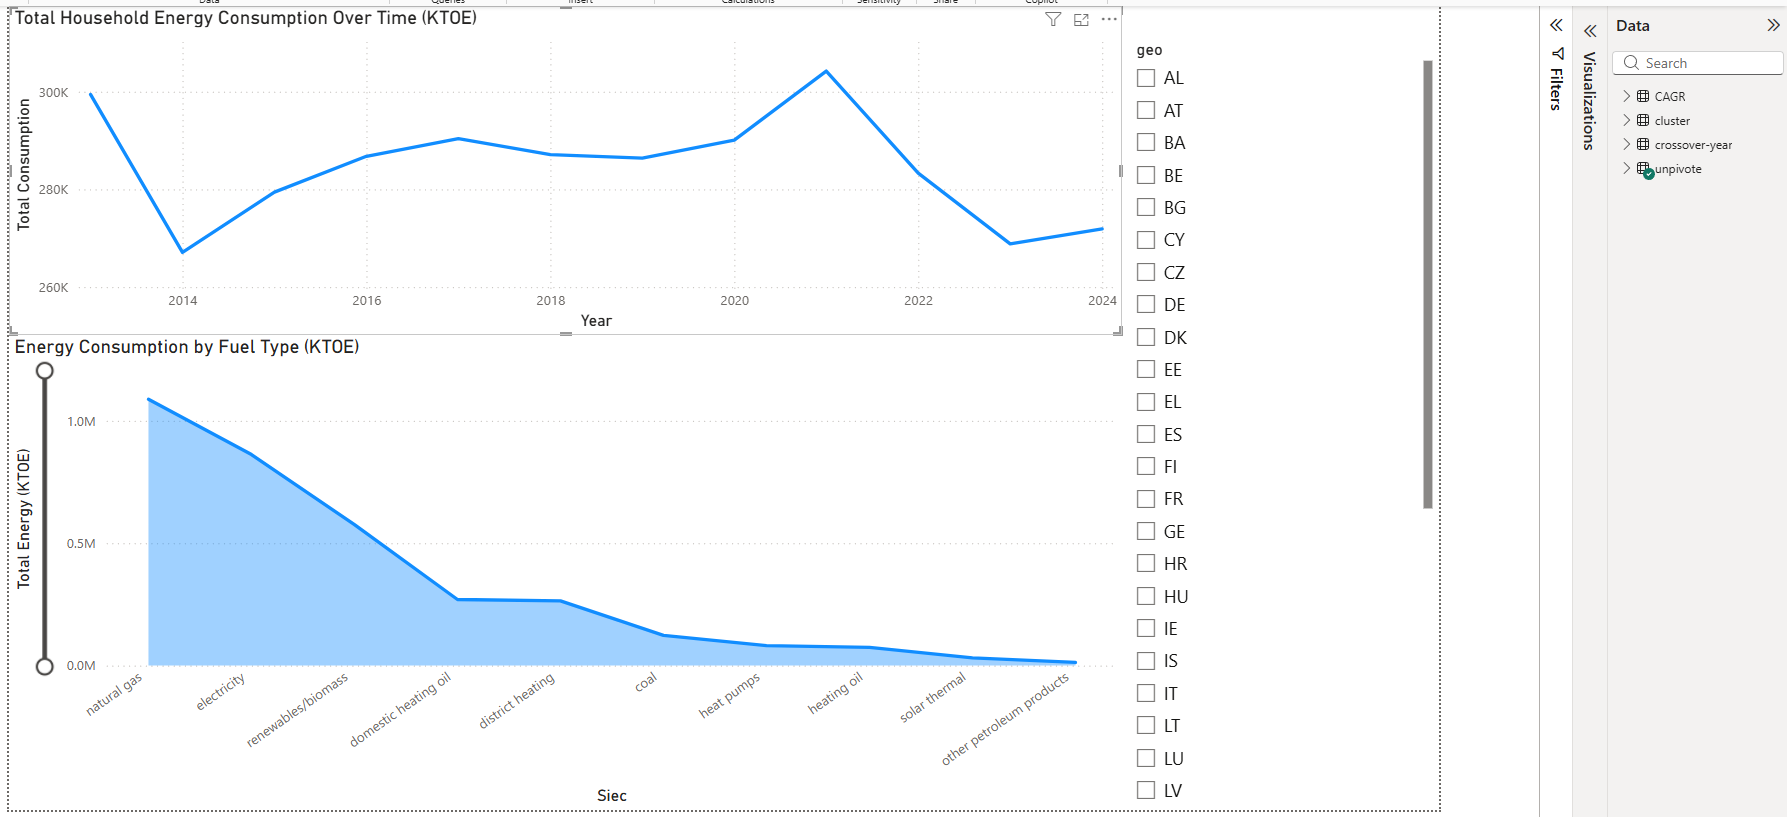

The dashboard page shown, as its layout file describes it:
{"tool":"powerbi","page":{"name":"Total Energy Consumption","canvas":[1280,720],"ordinal":0},"visuals":[{"type":"lineChart","title":"Energy Consumption by Fuel Type (KTOE)","fields":{"Category":["eu_hh_for_PowerBi_analysis.siec"],"Y":["Sum(eu_hh_for_PowerBi_analysis.value)"]},"box":[0,294.7,997,425],"z":1000},{"type":"slicer","fields":{"Values":["eu_hh_for_PowerBi_analysis.geo"]},"box":[997,26.3,283,693.5],"z":2000},{"type":"lineChart","title":"Total Household Energy Consumption Over Time (KTOE)","fields":{"Y":["Sum(eu_hh_for_PowerBi_analysis.value)"],"Category":["eu_hh_for_PowerBi_analysis.year"]},"box":[0,0,997,294.7],"z":3000}]}

Visuals, with their boxes on the page's 1280x720 design canvas (x1, y1, x2, y2). These are canvas units, not pixel positions in the 1787x817 screenshot, which may show the page scaled, cropped or inside an application window:
"Energy Consumption by Fuel Type (KTOE)" lineChart: {"left": 0, "top": 295, "right": 997, "bottom": 720}
slicer - eu_hh_for_PowerBi_analysis.geo: {"left": 997, "top": 26, "right": 1280, "bottom": 720}
"Total Household Energy Consumption Over Time (KTOE)" lineChart: {"left": 0, "top": 0, "right": 997, "bottom": 295}
